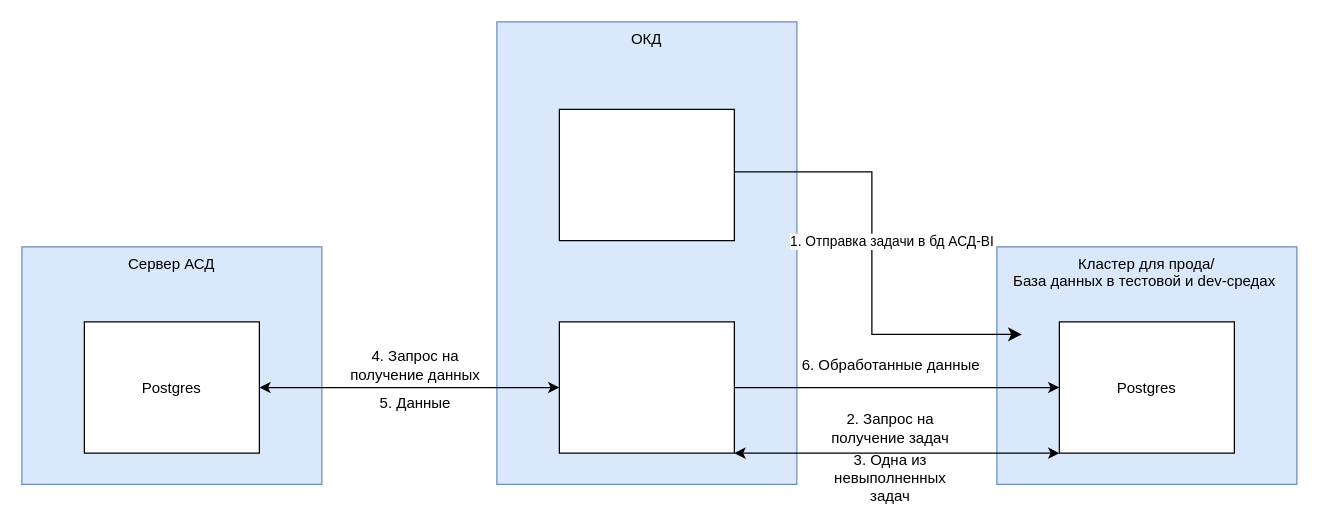
This 1319x526 diagram has some shape labels left out. The centre of each missing label's shape, as x and y in pixels:
vist-import Обр: pixel 646 387
vist-import-jobs-writer: pixel 646 174
